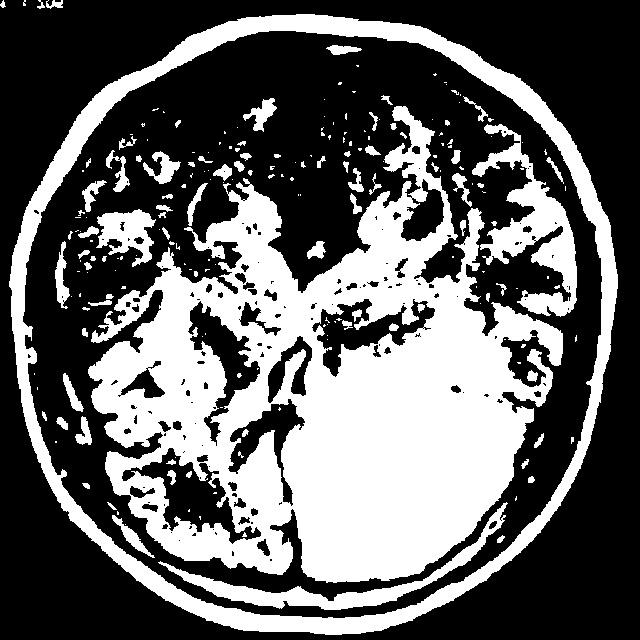Brain-Tumor: (289, 319, 532, 595)
